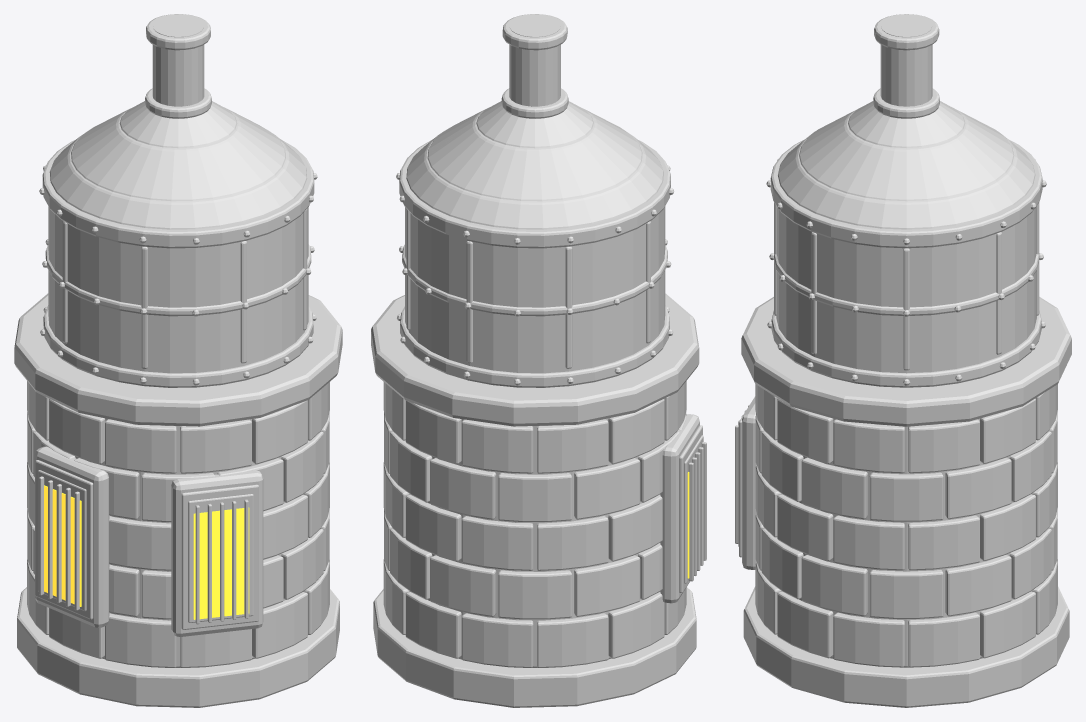
Rendered from furnace-study.fbx.
3 renders of one model, left to right at view 1: azimuth 30°, elevation 25°; view 2: azimuth 150°, elevation 25°; view 3: azimuth 270°, elevation 25°, orthographic.
Parts seen in each view (by area): view 1: Pressure vessel, Overhanging dressed cornice, Foundation, Formed hood, Pressed shoulder, Bronze pressure band.002, Bronze pressure band, Coal heat.001, Firebox cast surround.001, Firebox cast surround, Hood neck, Basalt course 4 block 8 (+47 smaller); view 2: Pressure vessel, Overhanging dressed cornice, Foundation, Formed hood, Pressed shoulder, Bronze pressure band.002, Bronze pressure band, Hood neck, Basalt course 1 block 3, Basalt course 3 block 3, Basalt course 2 block 3, Basalt course 0 block 3 (+37 smaller); view 3: Pressure vessel, Overhanging dressed cornice, Foundation, Formed hood, Pressed shoulder, Bronze pressure band.002, Bronze pressure band, Hood neck, Basalt course 3 block 11, Basalt course 1 block 11, Basalt course 0 block 0, Basalt course 2 block 11 (+34 smaller).
Boxes of the visible parts, x1,y1,x2,y2 form: Pressure vessel: [48, 206, 308, 373]; Overhanging dressed cornice: [14, 293, 342, 426]; Foundation: [17, 587, 339, 707]; Formed hood: [71, 107, 285, 201]; Pressed shoulder: [49, 133, 307, 229]; Bronze pressure band.002: [42, 139, 314, 248]; Bronze pressure band: [43, 305, 313, 387]; Coal heat.001: [193, 507, 249, 619]; Firebox cast surround.001: [171, 470, 263, 636]; Firebox cast surround: [35, 446, 109, 627]; Hood neck: [119, 101, 237, 148]; Basalt course 4 block 8: [180, 419, 251, 473]; Pressure vessel: [405, 206, 665, 373]; Overhanging dressed cornice: [371, 293, 699, 426]; Foundation: [373, 587, 696, 707]; Formed hood: [427, 107, 642, 201]; Pressed shoulder: [406, 133, 663, 229]; Bronze pressure band.002: [399, 139, 670, 248]; Bronze pressure band: [400, 305, 669, 387]; Hood neck: [476, 101, 593, 148]; Basalt course 1 block 3: [498, 570, 571, 619]; Basalt course 3 block 3: [498, 473, 571, 521]; Basalt course 2 block 3: [461, 516, 533, 570]; Basalt course 0 block 3: [461, 613, 533, 667]; Pressure vessel: [776, 206, 1036, 373]; Overhanging dressed cornice: [741, 297, 1071, 426]; Foundation: [743, 586, 1069, 707]; Formed hood: [799, 107, 1014, 201]; Pressed shoulder: [778, 131, 1035, 229]; Bronze pressure band.002: [770, 140, 1042, 248]; Bronze pressure band: [771, 311, 1041, 387]; Hood neck: [848, 101, 965, 148]; Basalt course 3 block 11: [869, 472, 943, 521]; Basalt course 1 block 11: [869, 570, 943, 618]; Basalt course 0 block 0: [908, 612, 979, 667]; Basalt course 2 block 11: [833, 515, 904, 570].
Bounding box in the file's own units: 414 × 832 × 414.
